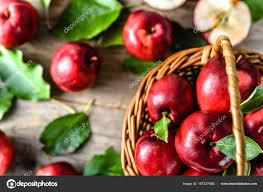apple: (194, 55, 256, 116), (176, 112, 235, 164), (49, 40, 102, 95), (121, 11, 178, 62), (141, 79, 195, 121), (1, 3, 41, 48), (136, 133, 178, 172), (31, 159, 76, 175), (1, 130, 16, 171)
damaged_apple: (192, 1, 252, 43)
